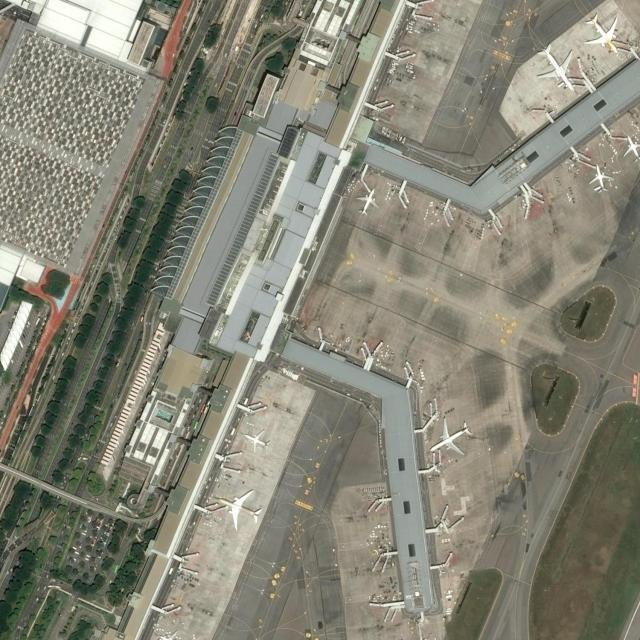Aircraft: (215, 490, 263, 530), (536, 43, 574, 91), (429, 416, 473, 454), (583, 13, 619, 53), (590, 163, 612, 193), (356, 187, 378, 215), (244, 428, 268, 452), (623, 135, 640, 162), (159, 631, 185, 640)
